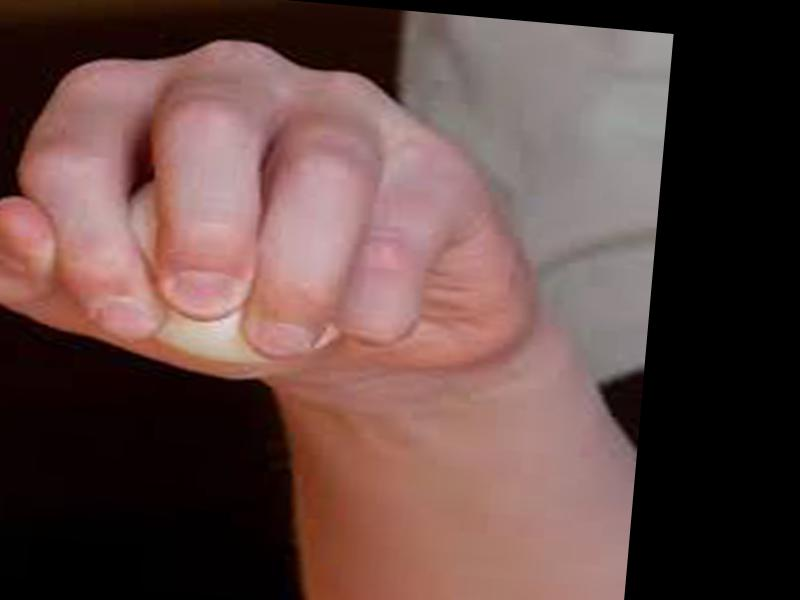Eggs: (88, 173, 352, 373)
